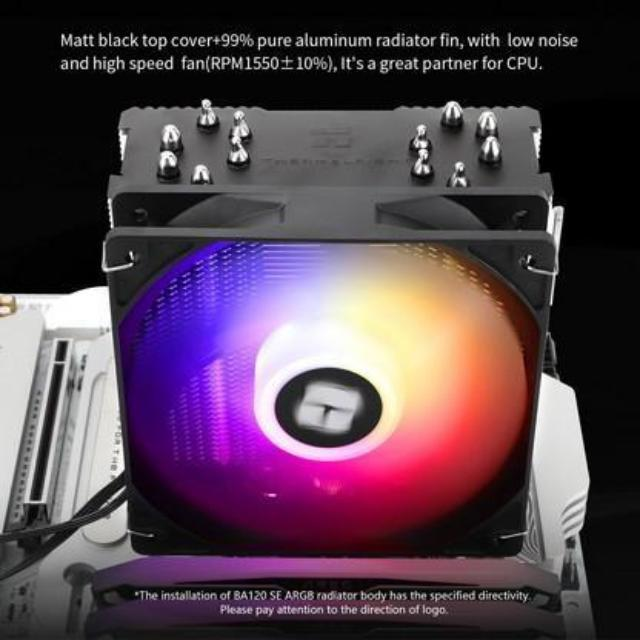CPU_Fan: (93, 87, 559, 581)
